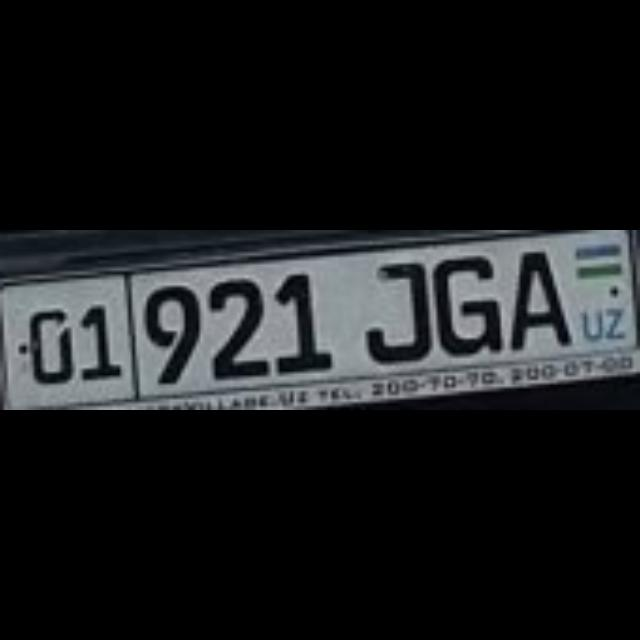0: (27, 306, 72, 380)
1: (271, 271, 327, 369), (76, 302, 116, 376)
2: (203, 275, 263, 377)
9: (140, 279, 196, 381)
A: (504, 245, 568, 347)
G: (425, 249, 497, 351)
J: (361, 256, 425, 358)
